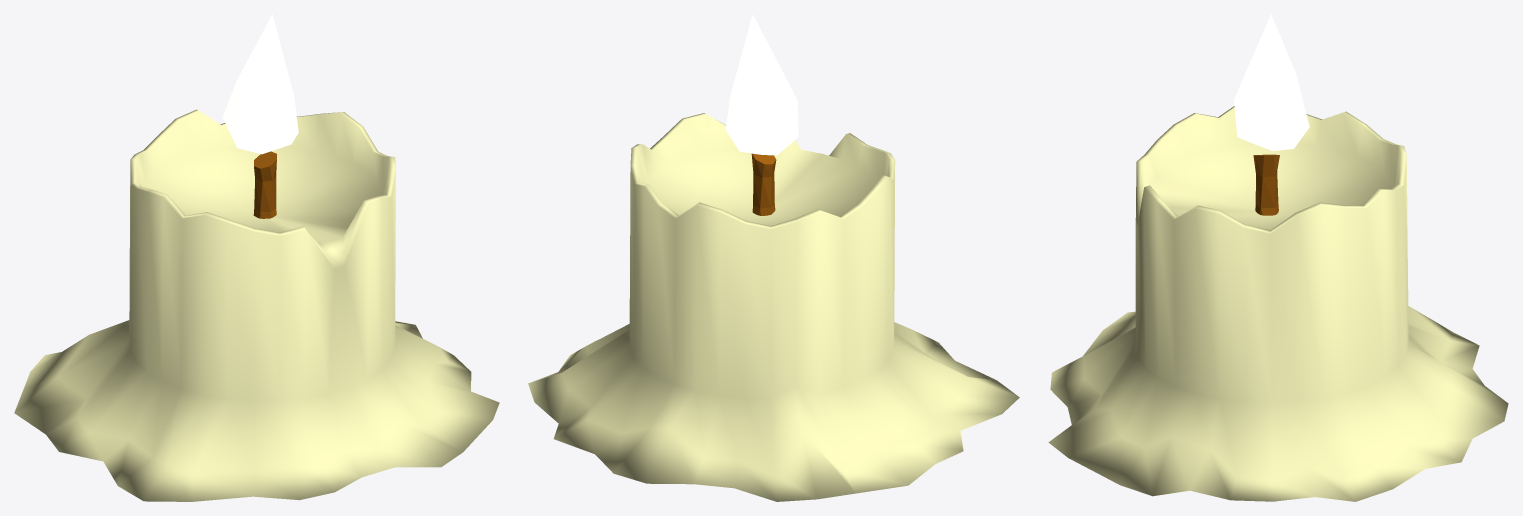
The model's file is velas_4.gltf.
3 views of the same model, side by side, from view 1: azimuth 30°, elevation 25°; view 2: azimuth 150°, elevation 25°; view 3: azimuth 270°, elevation 25° (orthographic). The views are drawn at different scales.
Visible parts, largest first — view 1: Cylinder.000, Cylinder.002, Cylinder.001; view 2: Cylinder.000, Cylinder.002, Cylinder.001; view 3: Cylinder.000, Cylinder.002, Cylinder.001.
Boxes of the visible parts, x1,y1,x2,y2 form: Cylinder.000: [14, 109, 499, 501]; Cylinder.002: [222, 14, 298, 154]; Cylinder.001: [253, 151, 276, 218]; Cylinder.000: [528, 113, 1019, 501]; Cylinder.002: [725, 14, 798, 155]; Cylinder.001: [751, 153, 776, 215]; Cylinder.000: [1048, 106, 1508, 501]; Cylinder.002: [1234, 14, 1309, 150]; Cylinder.001: [1253, 154, 1279, 215].
Size of the model in its own units: 1.53 by 1.43 by 1.49.
